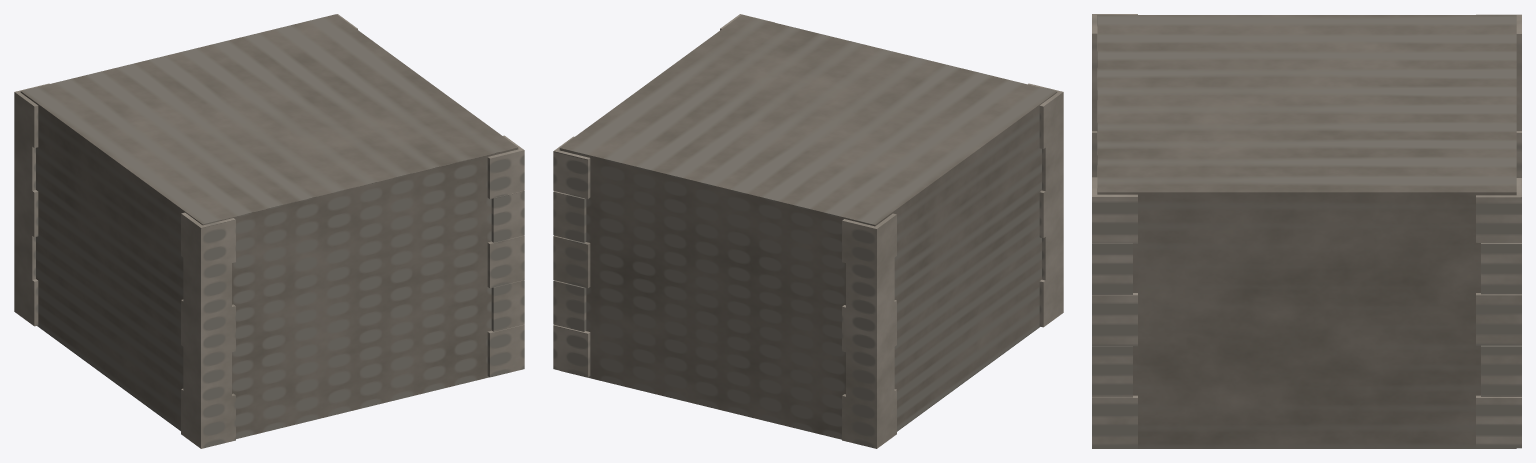
The model's file is med_plinth_b.glb.
3 renders of one model, left to right at view 1: azimuth 30°, elevation 25°; view 2: azimuth 150°, elevation 25°; view 3: azimuth 270°, elevation 25°, orthographic. The views are drawn at different scales.
Visible parts, largest first — view 1: med_plinth_b; view 2: med_plinth_b; view 3: med_plinth_b.
Part boxes in pixels (x1,y1,x2,y2): med_plinth_b: [14, 14, 524, 448]; med_plinth_b: [553, 14, 1063, 448]; med_plinth_b: [1092, 14, 1521, 448].
Bounding box in the file's own units: 4.1 × 2.7 × 4.1.
Materials: 1 (1 with a texture image).
